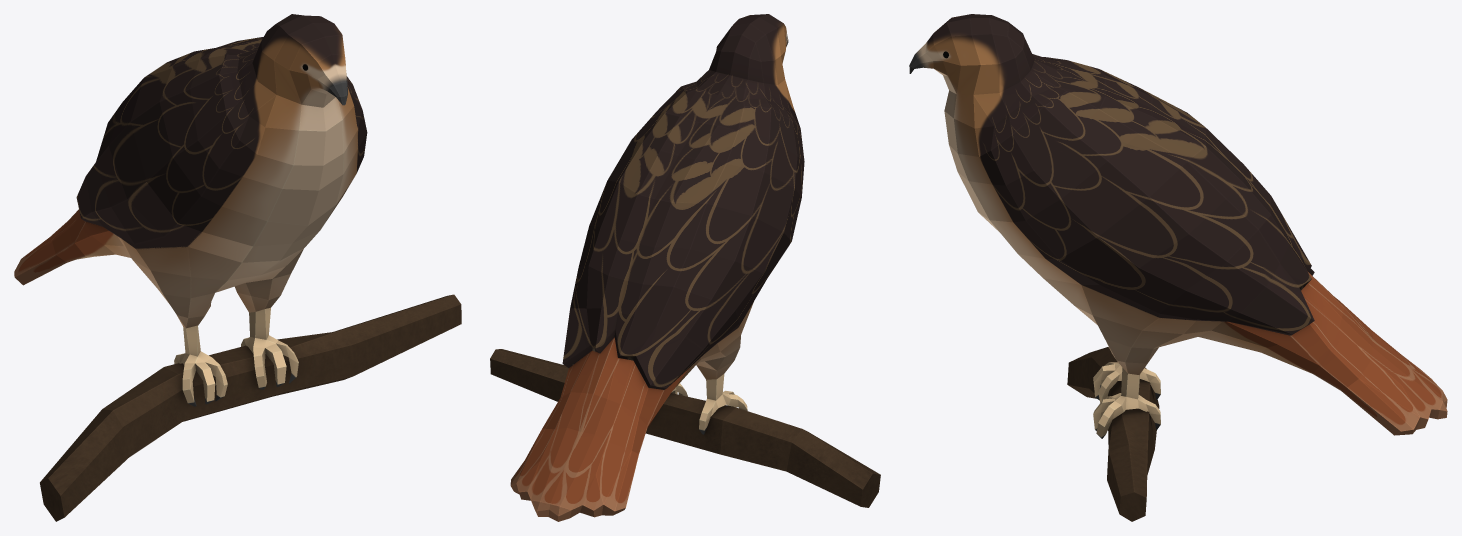
3 renders of one model, left to right at view 1: azimuth 30°, elevation 25°; view 2: azimuth 150°, elevation 25°; view 3: azimuth 270°, elevation 25°, orthographic. The views are drawn at different scales.
Parts seen in each view (by area): view 1: RedTailedHawk_Mesh; view 2: RedTailedHawk_Mesh; view 3: RedTailedHawk_Mesh.
Part boxes in pixels (x1,y1,x2,y2): RedTailedHawk_Mesh: (14, 14, 461, 521); RedTailedHawk_Mesh: (490, 14, 880, 521); RedTailedHawk_Mesh: (909, 14, 1447, 521).
Bounding box in the file's own units: 3.27 × 3.62 × 3.76.
Materials: 1 (1 with a texture image).
